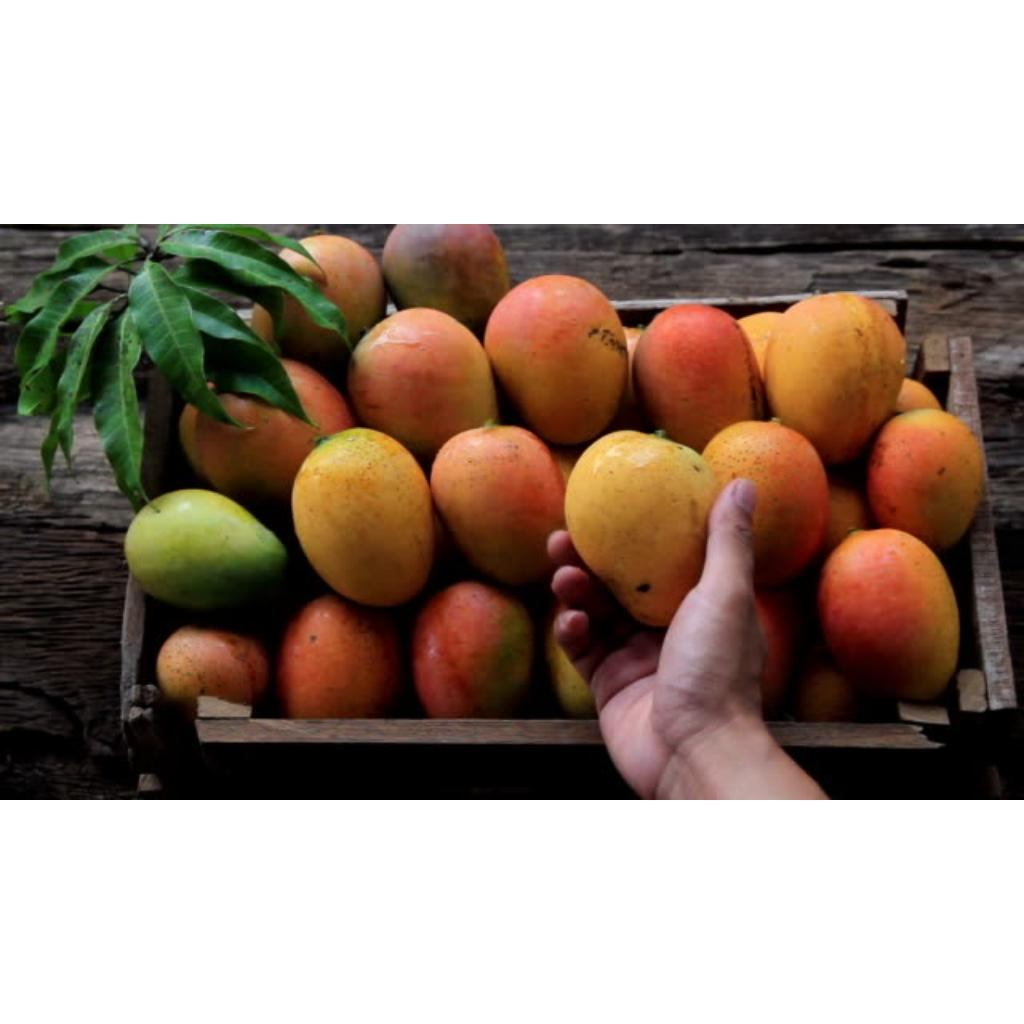mango: (566, 432, 720, 627), (292, 428, 434, 606), (764, 292, 906, 465), (818, 528, 960, 699), (180, 362, 354, 501), (484, 278, 628, 443), (348, 308, 498, 459), (434, 426, 566, 584), (702, 422, 828, 585), (634, 304, 764, 451), (124, 494, 286, 611), (868, 408, 982, 552), (412, 582, 532, 718), (276, 594, 404, 717), (382, 224, 510, 328), (156, 626, 270, 719)
